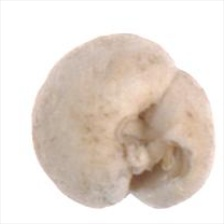L3: (111, 100, 190, 195)
L4: (31, 33, 215, 210)
